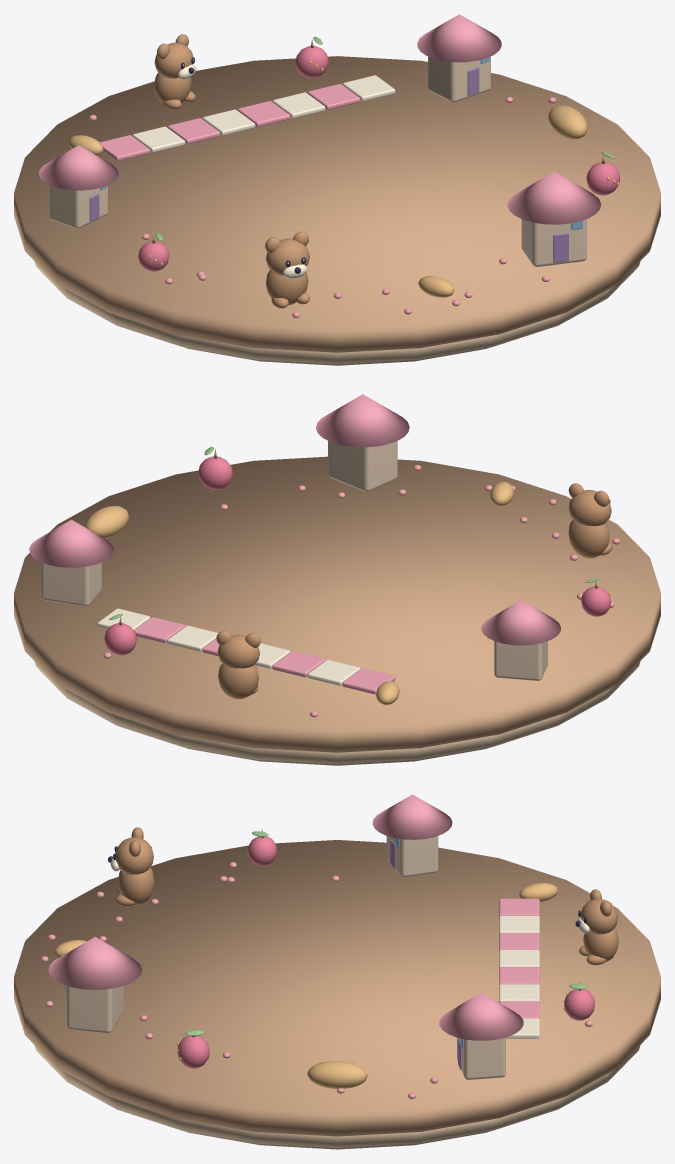
File: world.glb
The picture shows the model from 3 angles, top to bottom: view 1: azimuth 30°, elevation 25°; view 2: azimuth 150°, elevation 25°; view 3: azimuth 270°, elevation 25°; orthographic projection.
Parts seen in each view (by area): view 1: Cone, Cone.001, house.003, house.001, house.002, bear.002, bear.001, bread.001, strawberry.003, strawberry.001, Cube, Cube.002 (+9 smaller); view 2: Cone, Cone.001, house.003, house.001, house.002, bear.002, bear.001, bread.001, strawberry.003, strawberry.001, Cube.001, Cube.002 (+7 smaller); view 3: Cone, Cone.001, house.003, house.001, house.002, bear.002, bear.001, bread.001, strawberry.003, strawberry.001, strawberry.002, Cube (+8 smaller).
Boxes of the visible parts, <box> form: Cone: <box>14,56,660,352</box>; Cone.001: <box>34,261,640,364</box>; house.003: <box>507,171,601,266</box>; house.001: <box>417,14,501,102</box>; house.002: <box>39,145,118,228</box>; bear.002: <box>265,231,309,308</box>; bear.001: <box>154,34,196,109</box>; bread.001: <box>548,105,587,139</box>; strawberry.003: <box>586,152,620,195</box>; strawberry.001: <box>295,36,328,77</box>; Cube: <box>100,135,150,161</box>; Cube.002: <box>167,118,220,144</box>; Cone: <box>14,456,660,752</box>; Cone.001: <box>34,661,640,764</box>; house.003: <box>316,394,409,491</box>; house.001: <box>29,519,113,606</box>; house.002: <box>481,600,560,680</box>; bear.002: <box>568,483,612,558</box>; bear.001: <box>216,631,260,699</box>; bread.001: <box>85,505,128,538</box>; strawberry.003: <box>198,447,232,489</box>; strawberry.001: <box>104,613,136,655</box>; Cube.001: <box>307,659,360,685</box>; Cube.002: <box>272,651,325,677</box>; Cone: <box>14,840,660,1136</box>; Cone.001: <box>34,1045,640,1148</box>; house.003: <box>48,937,142,1033</box>; house.001: <box>439,992,523,1079</box>; house.002: <box>372,794,452,877</box>; bear.002: <box>108,827,154,906</box>; bear.001: <box>575,889,618,965</box>; bread.001: <box>307,1061,367,1088</box>; strawberry.003: <box>176,1027,209,1068</box>; strawberry.001: <box>563,981,595,1020</box>; strawberry.002: <box>247,829,277,866</box>; Cube: <box>499,898,539,916</box>.
Size of the model in its own units: 9.6 by 2.19 by 9.6.
